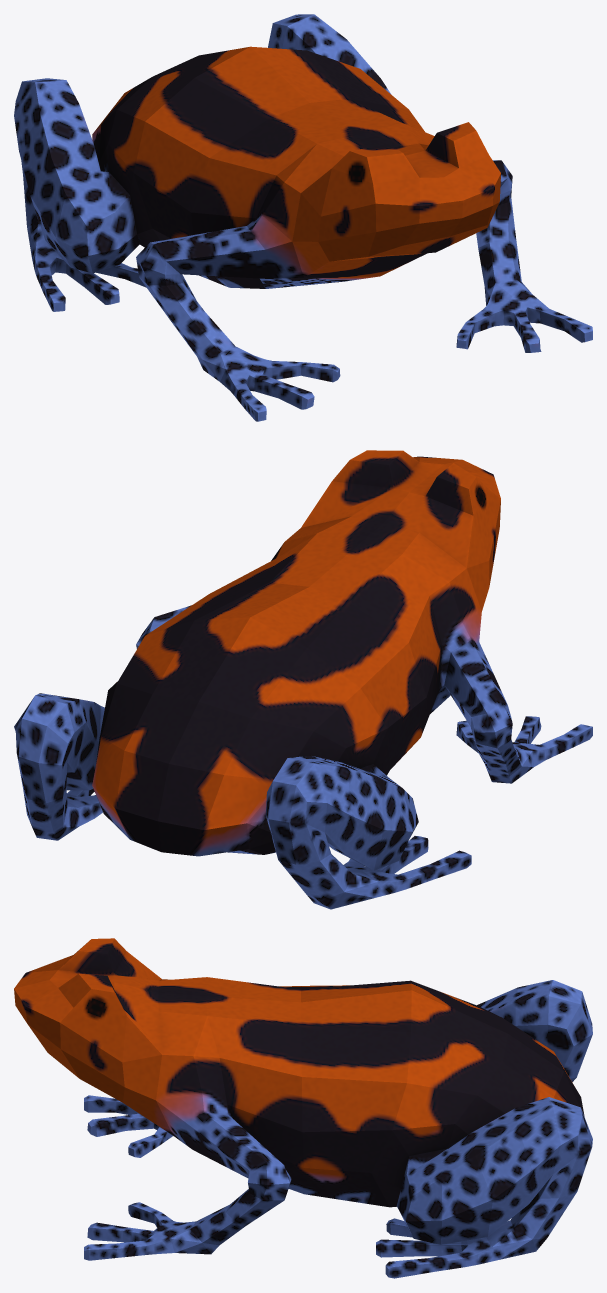
Rendered from PoisonDartFrog.obj.
3 views of the same model, one above another, from view 1: azimuth 30°, elevation 25°; view 2: azimuth 150°, elevation 25°; view 3: azimuth 270°, elevation 25° (orthographic). The views are drawn at different scales.
Parts seen in each view (by area): view 1: PoisonDartFrog_Mesh; view 2: PoisonDartFrog_Mesh; view 3: PoisonDartFrog_Mesh.
Boxes of the visible parts, x1,y1,x2,y2 form: PoisonDartFrog_Mesh: (14, 14, 592, 421); PoisonDartFrog_Mesh: (14, 450, 592, 909); PoisonDartFrog_Mesh: (14, 938, 592, 1278).
Size of the model in its own units: 3.13 by 1.71 by 4.01.
1 material, 1 textured.
